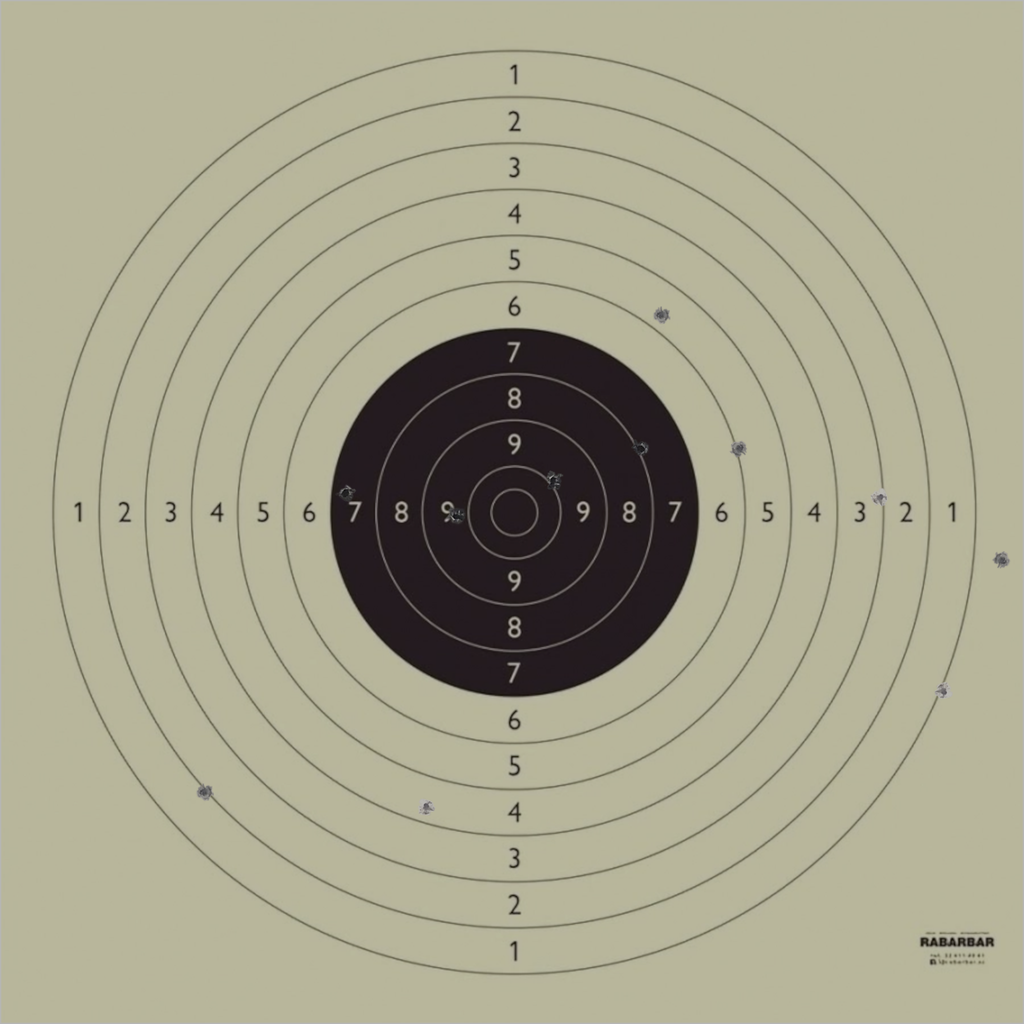0 punktow: (993, 551, 1011, 570)
1 punkt: (934, 682, 953, 701)
10 punktow: (544, 472, 563, 490)
2 punkty: (195, 783, 213, 801)
3 punkty: (871, 488, 889, 507)
4 punkty: (417, 798, 436, 816)
5 punktow: (652, 306, 670, 324)
6 punktow: (730, 439, 749, 458)
7 punktow: (337, 484, 355, 502)
8 punktow: (632, 439, 650, 458)
9 punktow: (447, 507, 465, 525)
